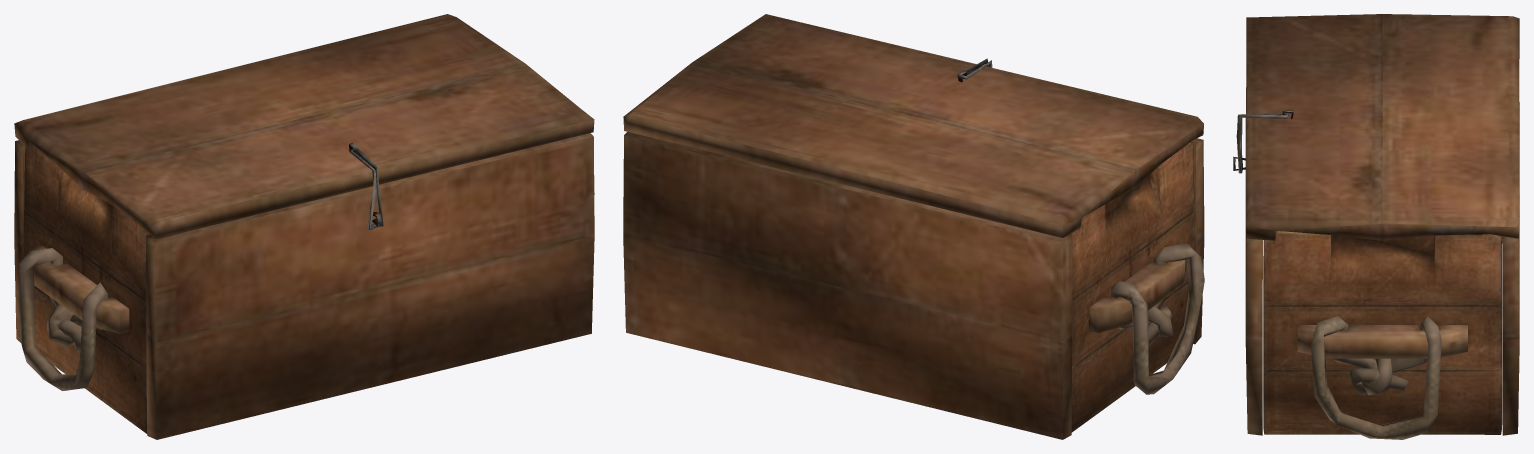
Rendered from wooden_crate_01.glb.
The picture shows the model from 3 angles, left to right: view 1: azimuth 30°, elevation 25°; view 2: azimuth 150°, elevation 25°; view 3: azimuth 270°, elevation 25°; orthographic projection. The views are drawn at different scales.
Parts seen in each view (by area): view 1: wooden_crate_01; view 2: wooden_crate_01; view 3: wooden_crate_01.
Boxes of the visible parts, bbox=[...] form: wooden_crate_01: bbox=[14, 14, 594, 439]; wooden_crate_01: bbox=[623, 14, 1204, 439]; wooden_crate_01: bbox=[1233, 14, 1519, 439].
Size of the model in its own units: 0.8202 by 0.3462 by 0.406.
1 material, 1 textured.
